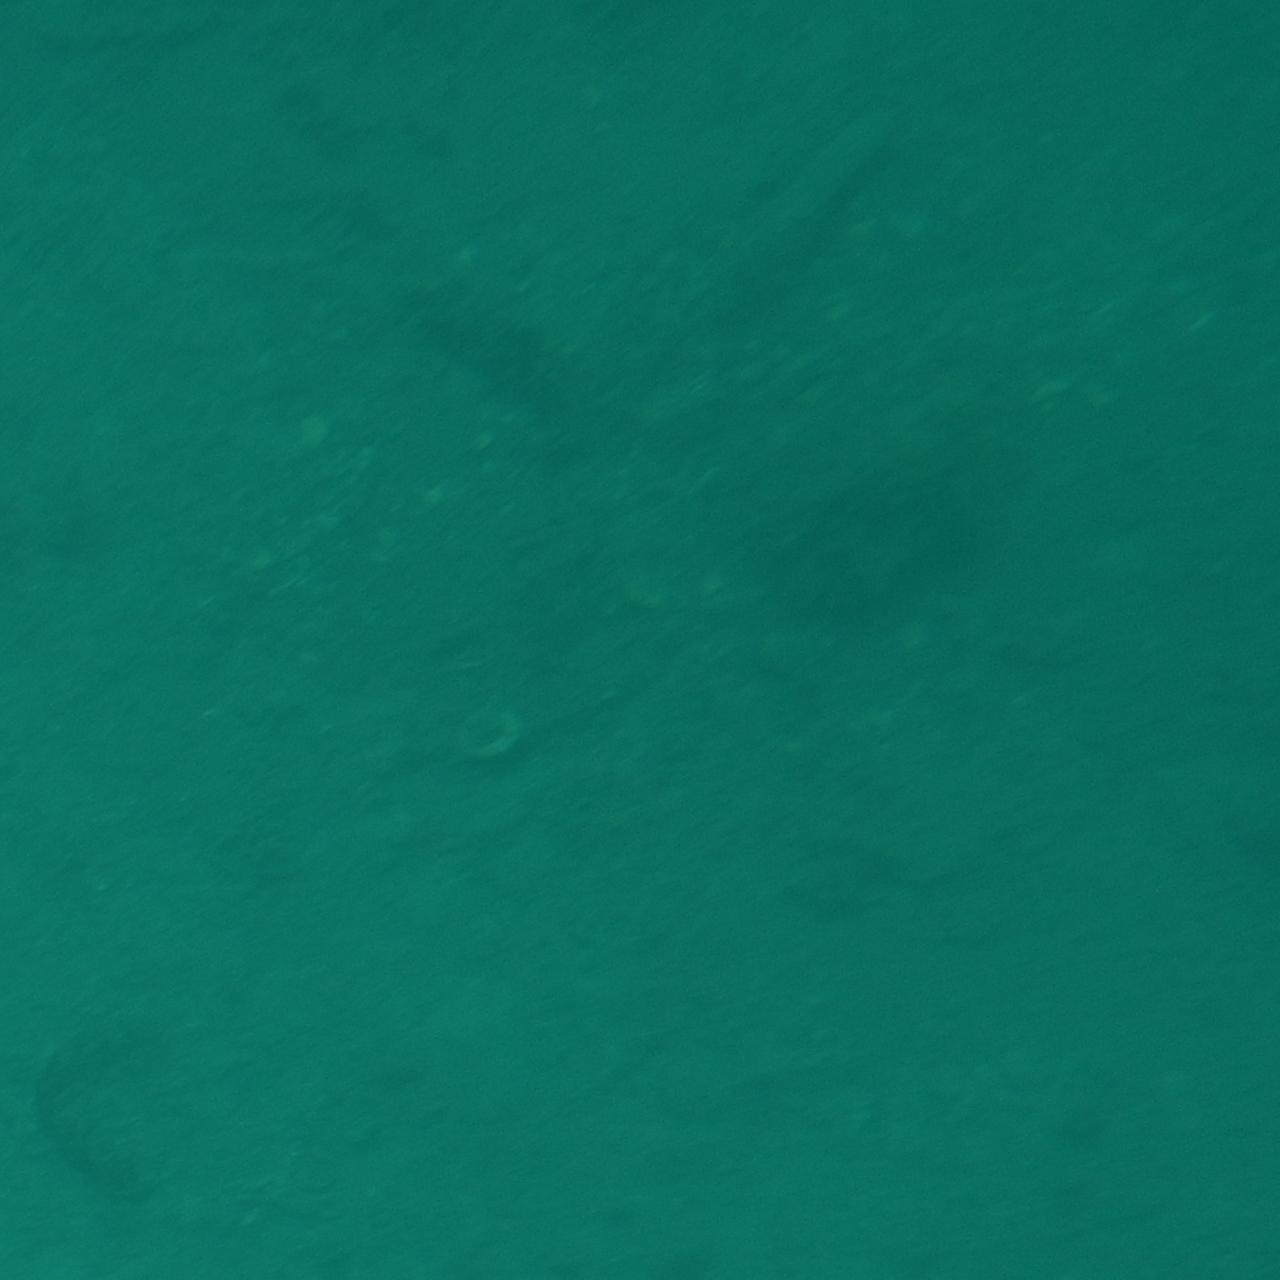Holothuria tubulosa: (722, 82, 930, 327)
